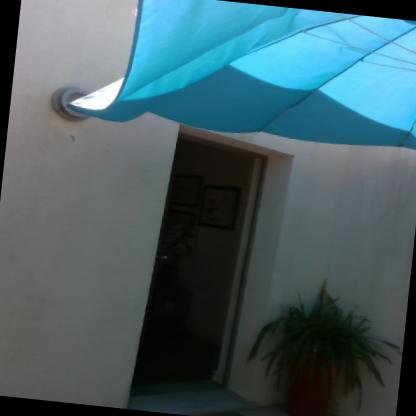open: (121, 123, 292, 415)
